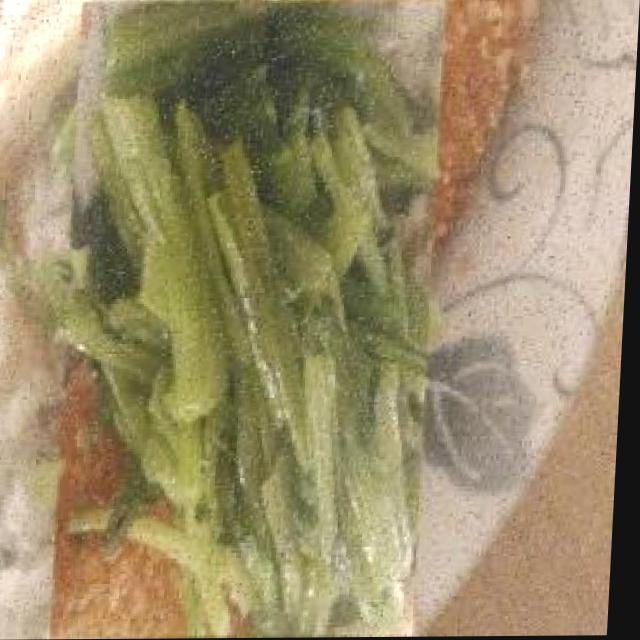water_spinach: (57, 0, 448, 640)
